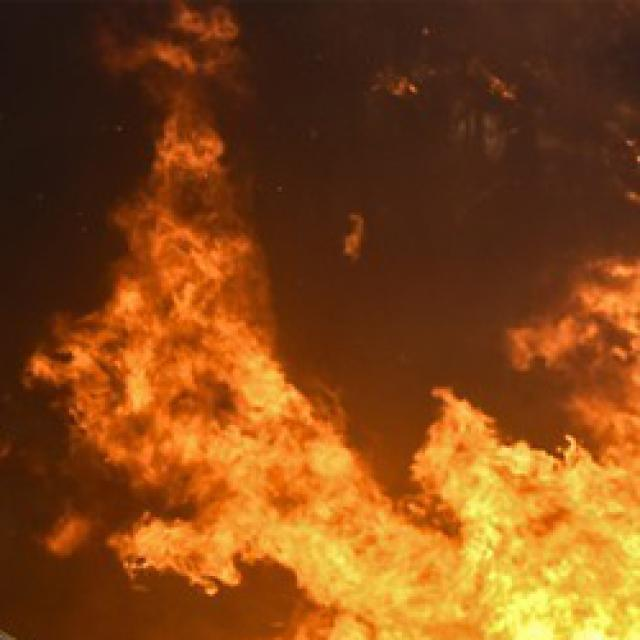Fire: (0, 0, 522, 640), (374, 237, 640, 640)
Smoke: (270, 0, 640, 279)
